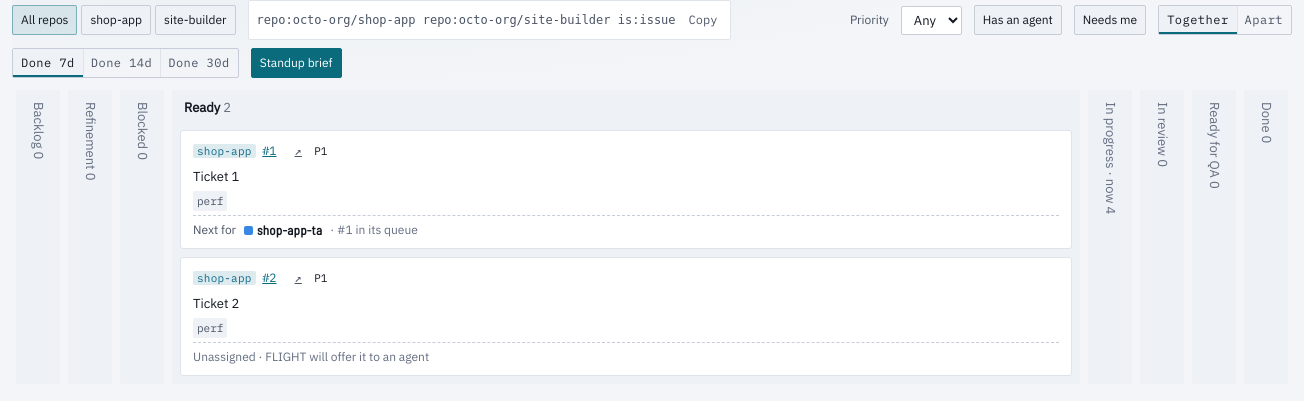
filters › Has an agent includes a queued card with no running agent
Check: the element showing "Backlog 0" is shown, box [16,90,60,384]
Check: the link "Ticket 1" is shown, box [193,168,239,185]
Click the button "Has an agent" at (1018,20), box [974,5,1062,35]
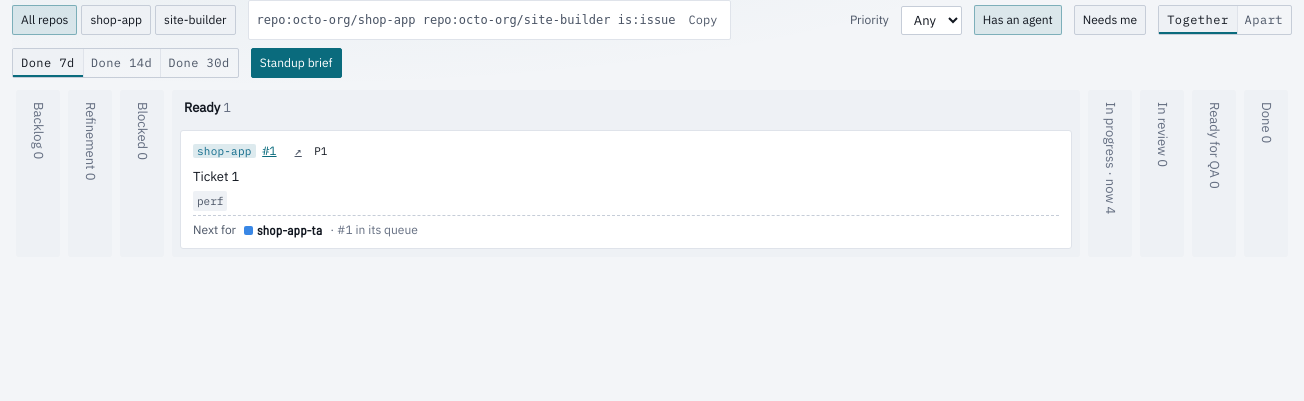
Check: the link "Ticket 1" is shown, box [193,168,239,185]
Check: the link "Ticket 2" is gone
